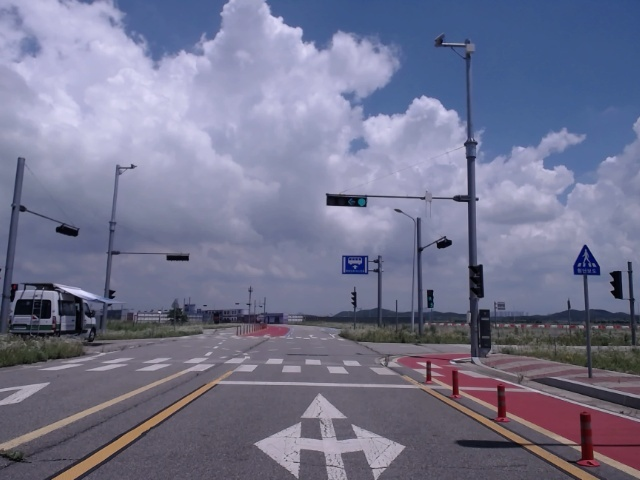all_green_4: (328, 192, 368, 207)
